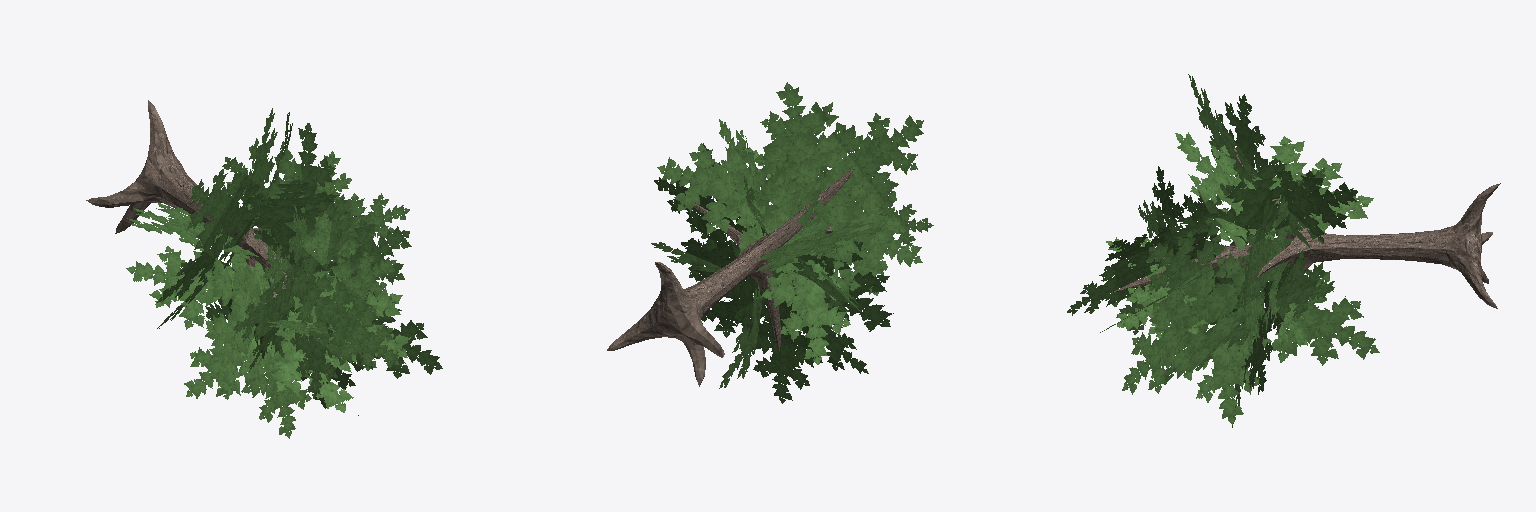
3 renders of one model, left to right at view 1: azimuth 30°, elevation 25°; view 2: azimuth 150°, elevation 25°; view 3: azimuth 270°, elevation 25°, orthographic.
Visible parts, largest first — view 1: Tree; view 2: Tree; view 3: Tree.
Part boxes in pixels (left/top/right/bottom): Tree: left=86, top=100, right=442, bottom=438; Tree: left=607, top=82, right=933, bottom=403; Tree: left=1067, top=74, right=1500, bottom=427.
Bounding box in the file's own units: 4.49 × 5.3 × 6.1.
Materials: 2 (2 with a texture image).